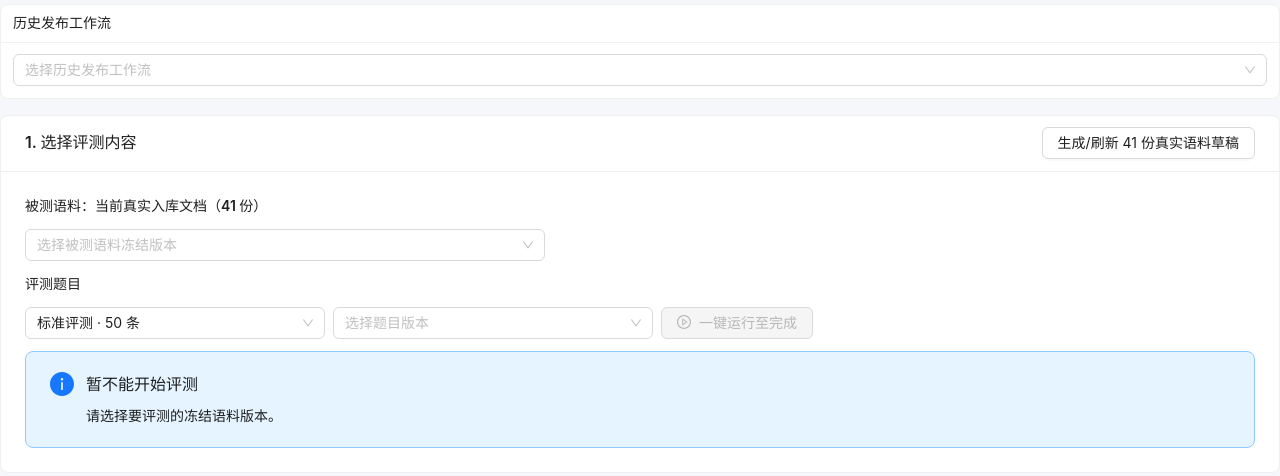
Test case: ReleaseEvaluationPanel › lists only the full, standard, and smoke question suites
Press the mouse on the dropdown named "评测题目集" at (166, 322), box [37,308,295,338]
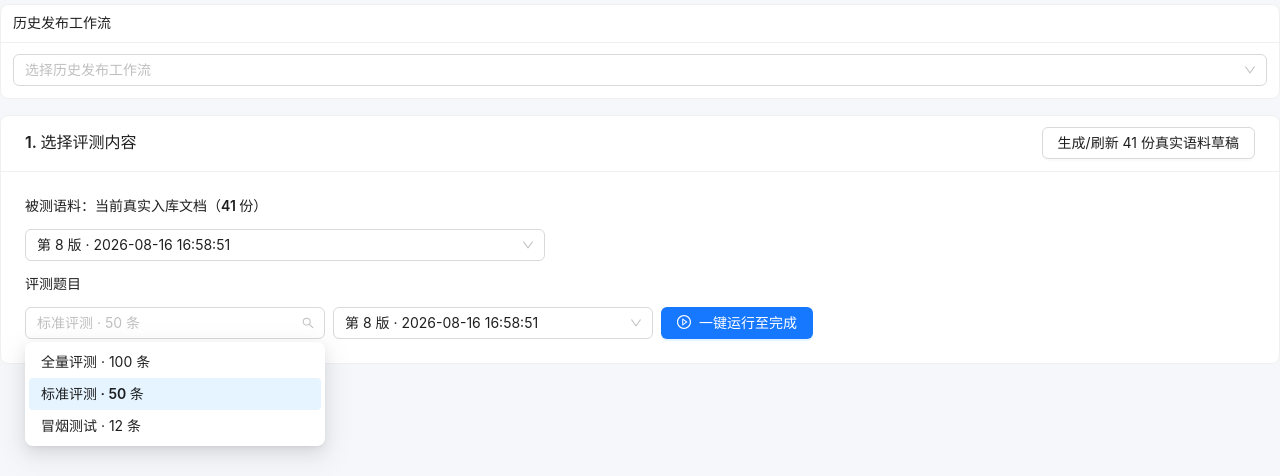
Check: the options read "全量评测 · 100 条", "标准评测 · 50 条", "冒烟测试 · 12 条", in this order, box [41,353,150,370]; [29,378,321,410]; [41,417,141,434]
